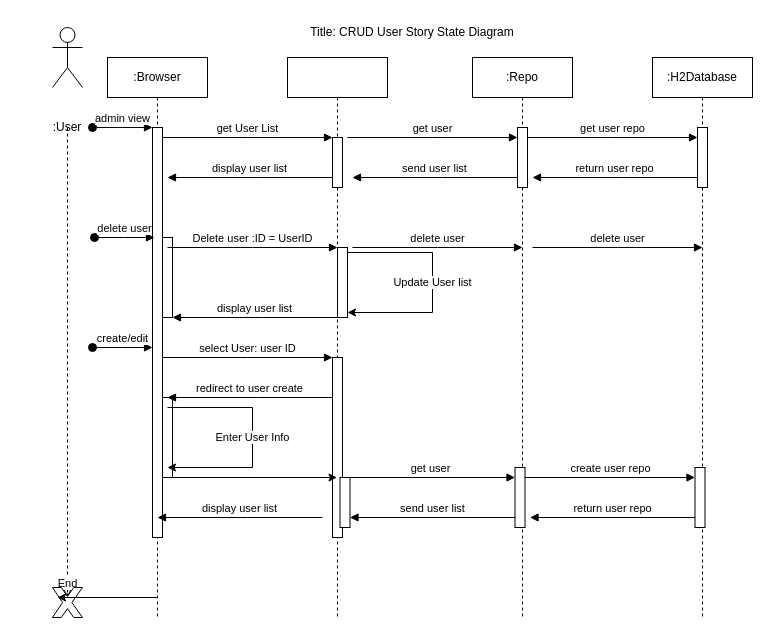
The diagram is 770 pixels wide and 635 high, and some of its shapes have lost their labels. Here are the shapes that lost their labels. From the top down, the centre of each, then its label:
At pixel 67 57: "Actor".
At pixel 337 337: ":Controller".
